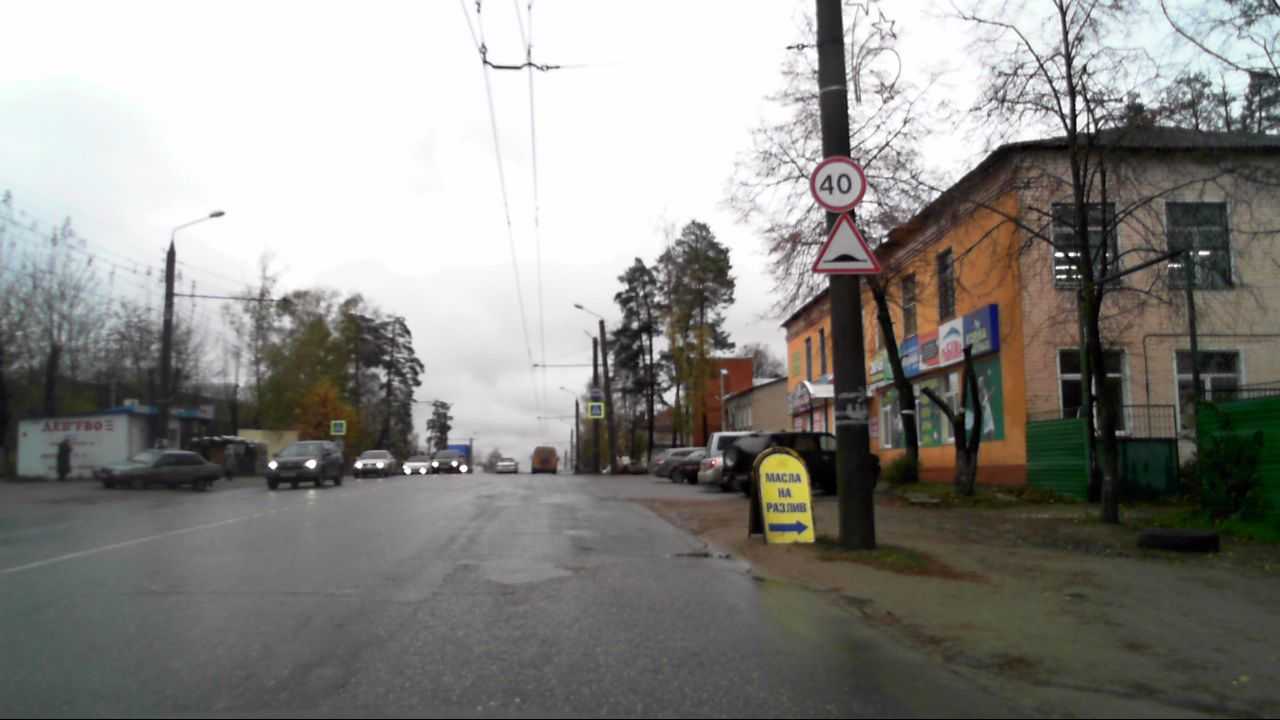speed_warning_40: (808, 156, 868, 212)
